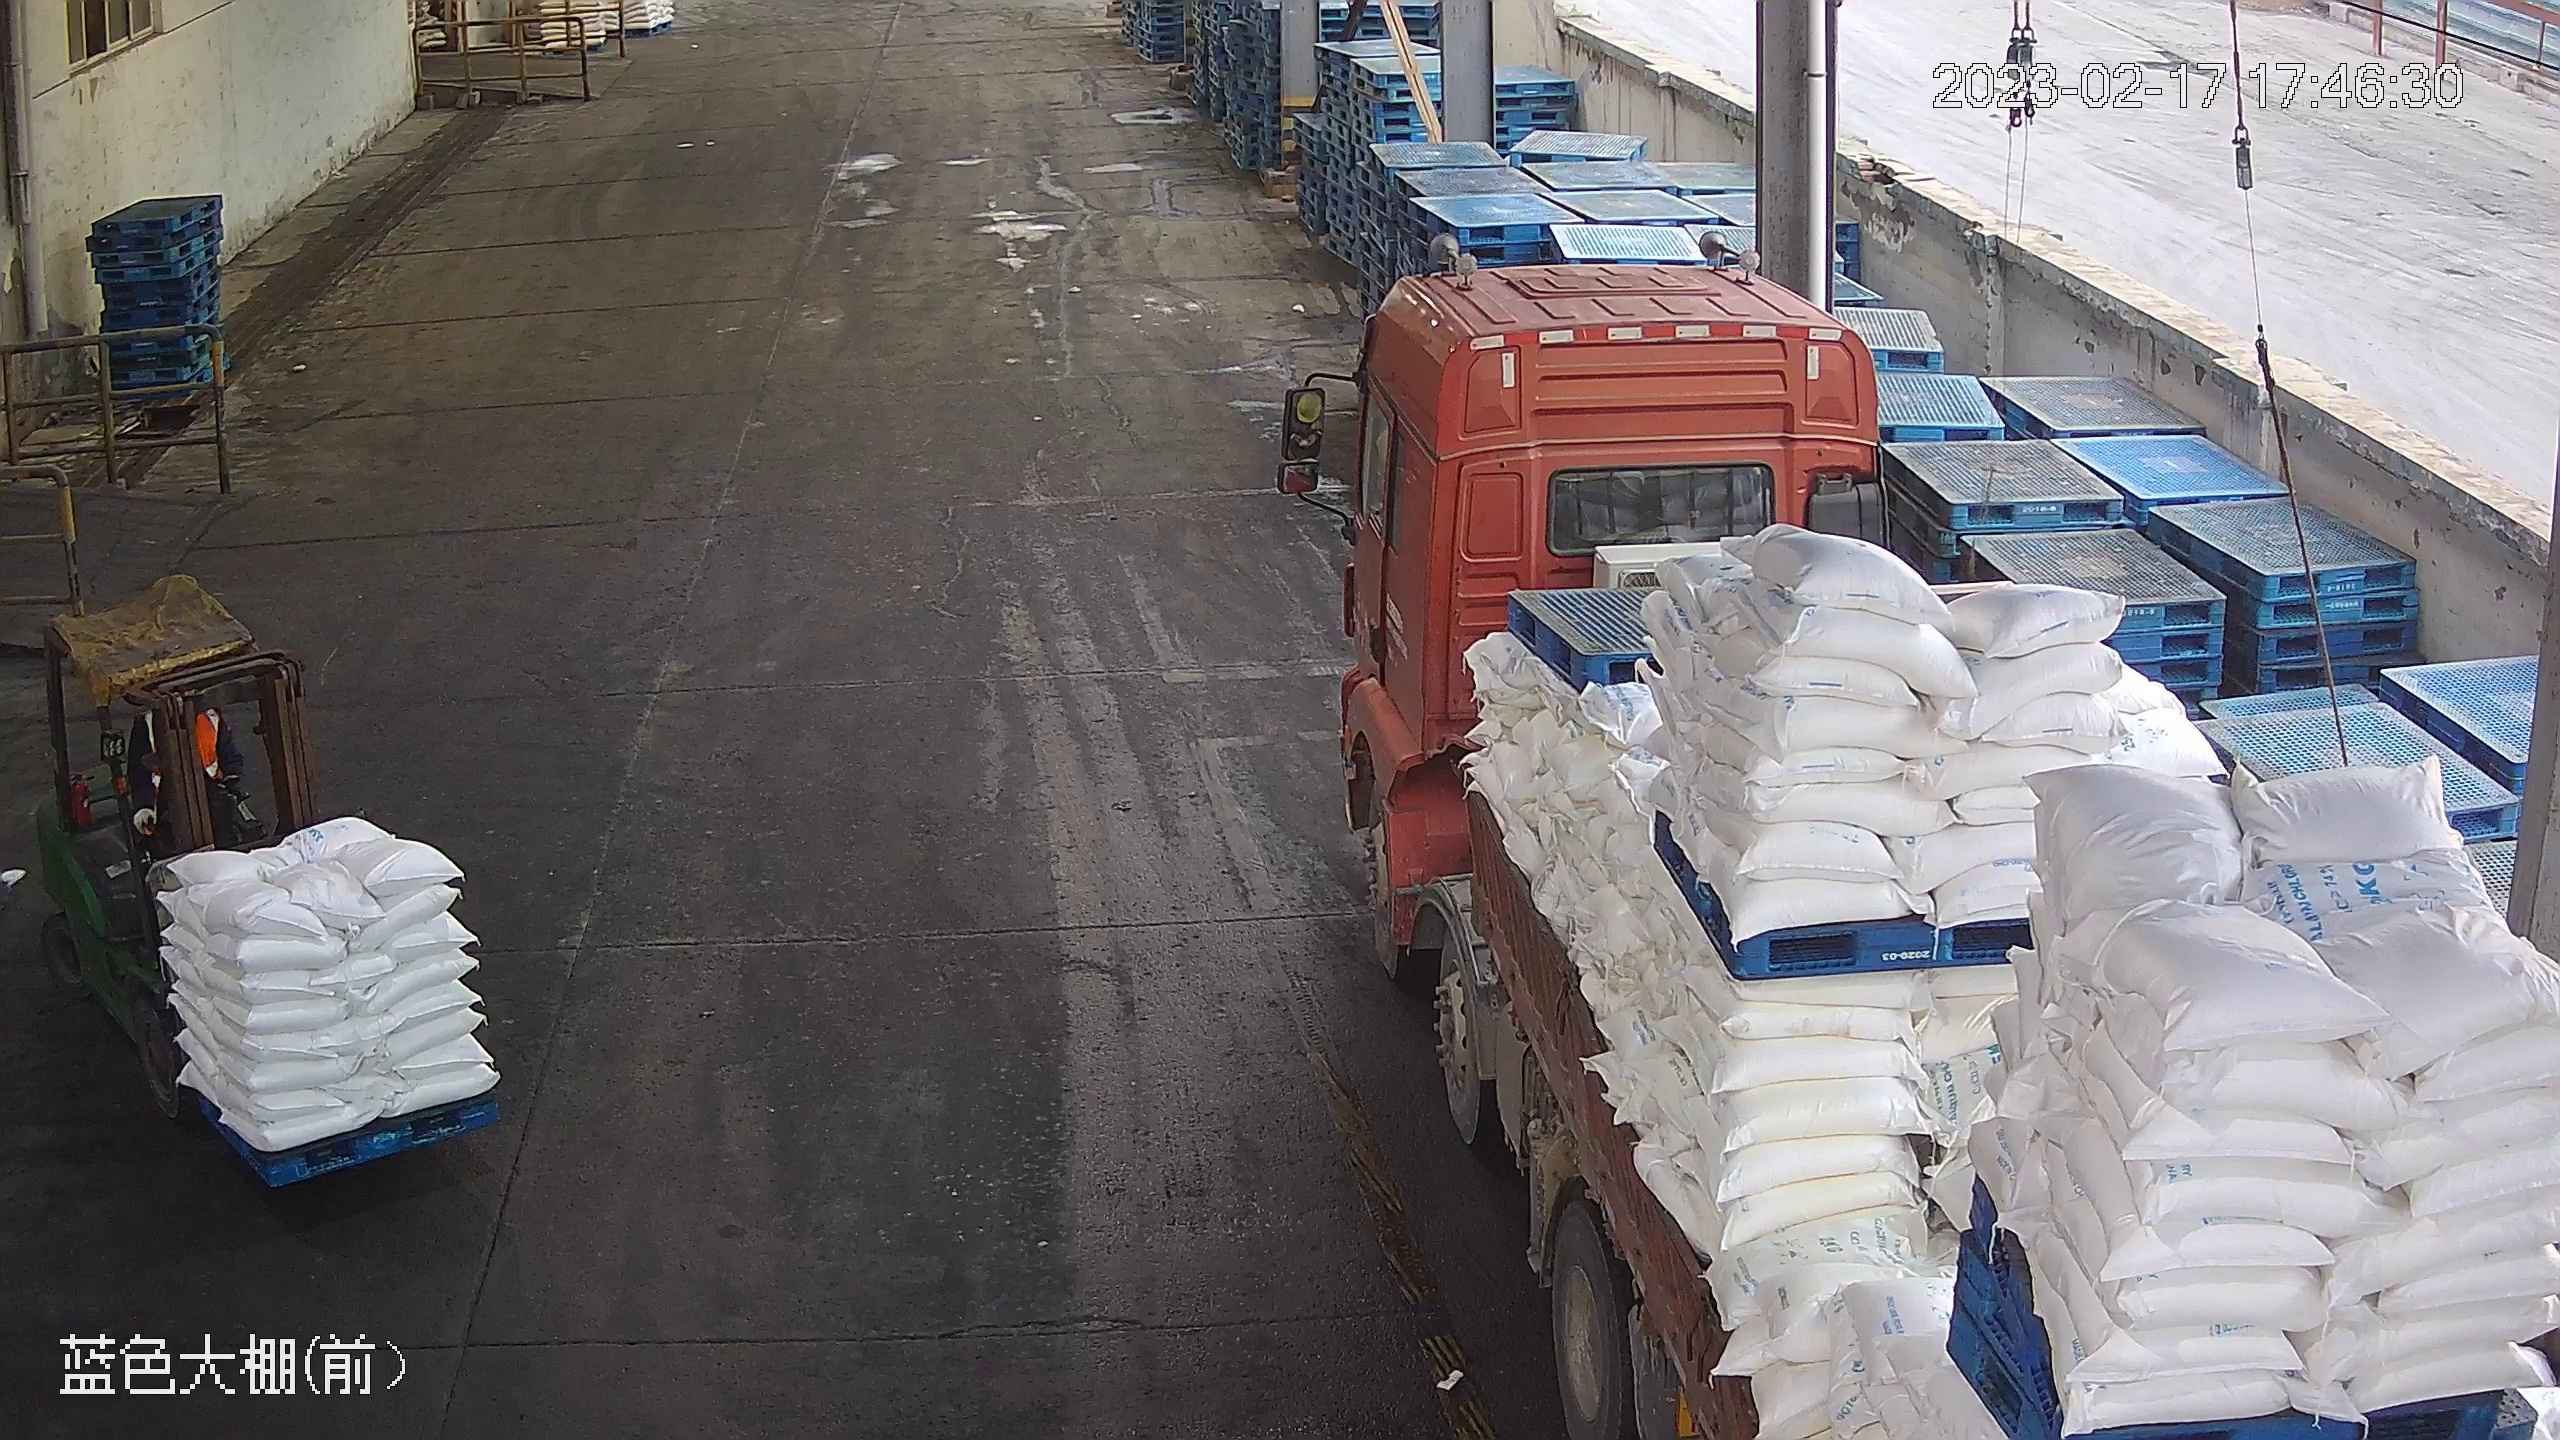truck: (1262, 267, 2560, 1440)
